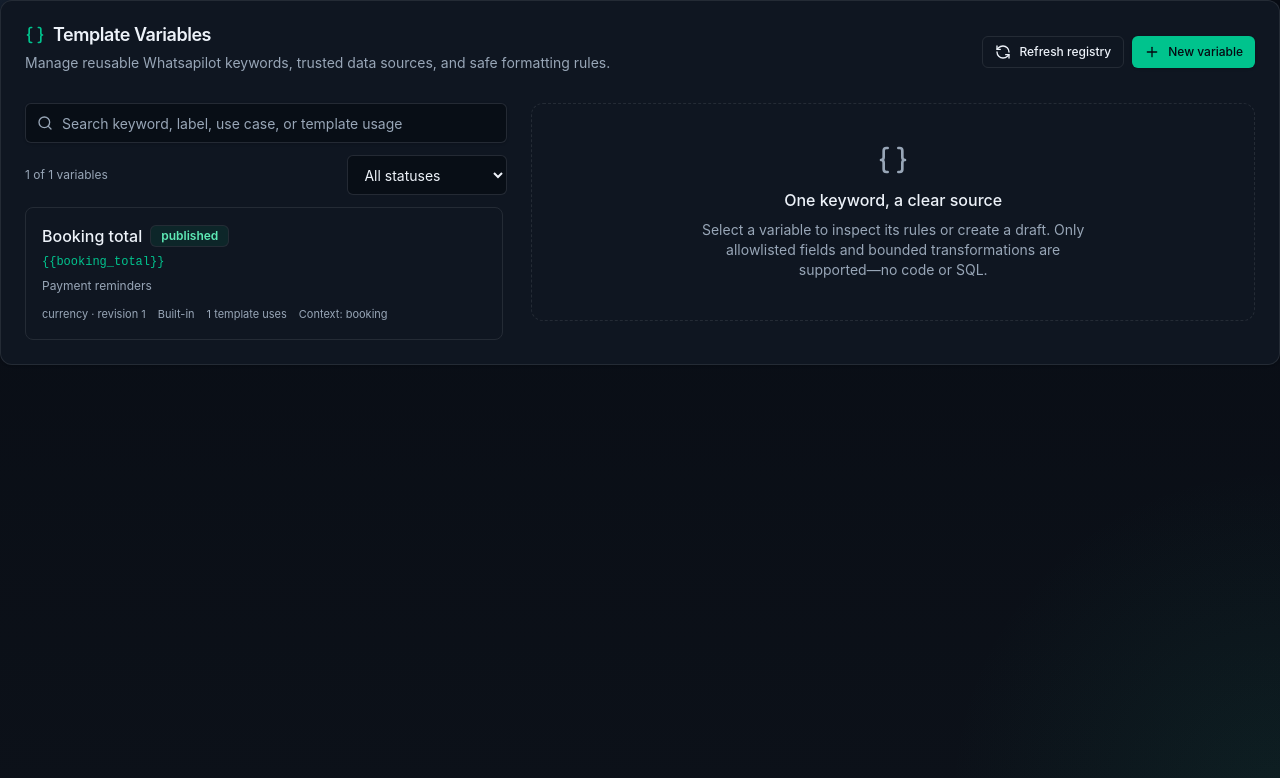
it: WhatsPilotTemplateVariablesPanel › loads the catalog, shows context and usage, and searches template usage without polling
Click the button "Booking total published" at [92, 236], box [25,207,503,340]
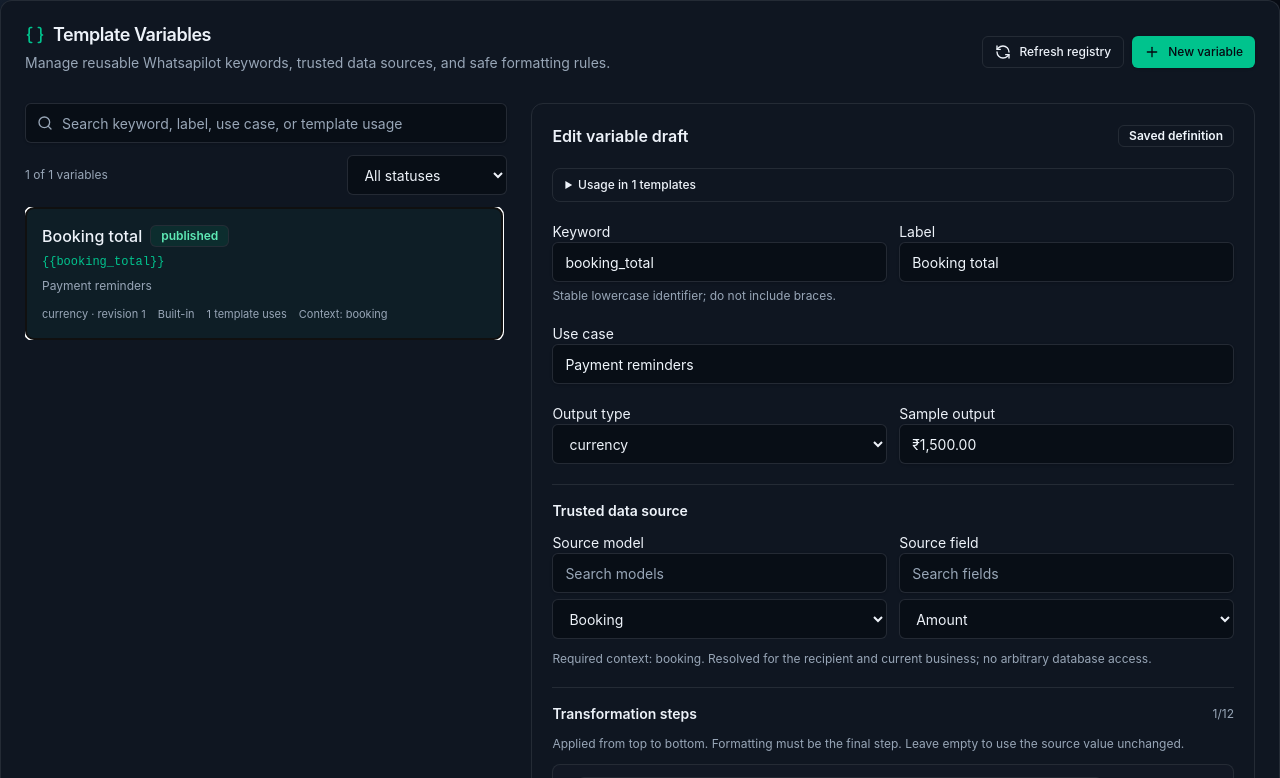
Expected: the text "Context: booking" is shown, [299,306,388,322]
Click the heading "Usage in 1 templates" at [637, 184], box [578,177,696,192]
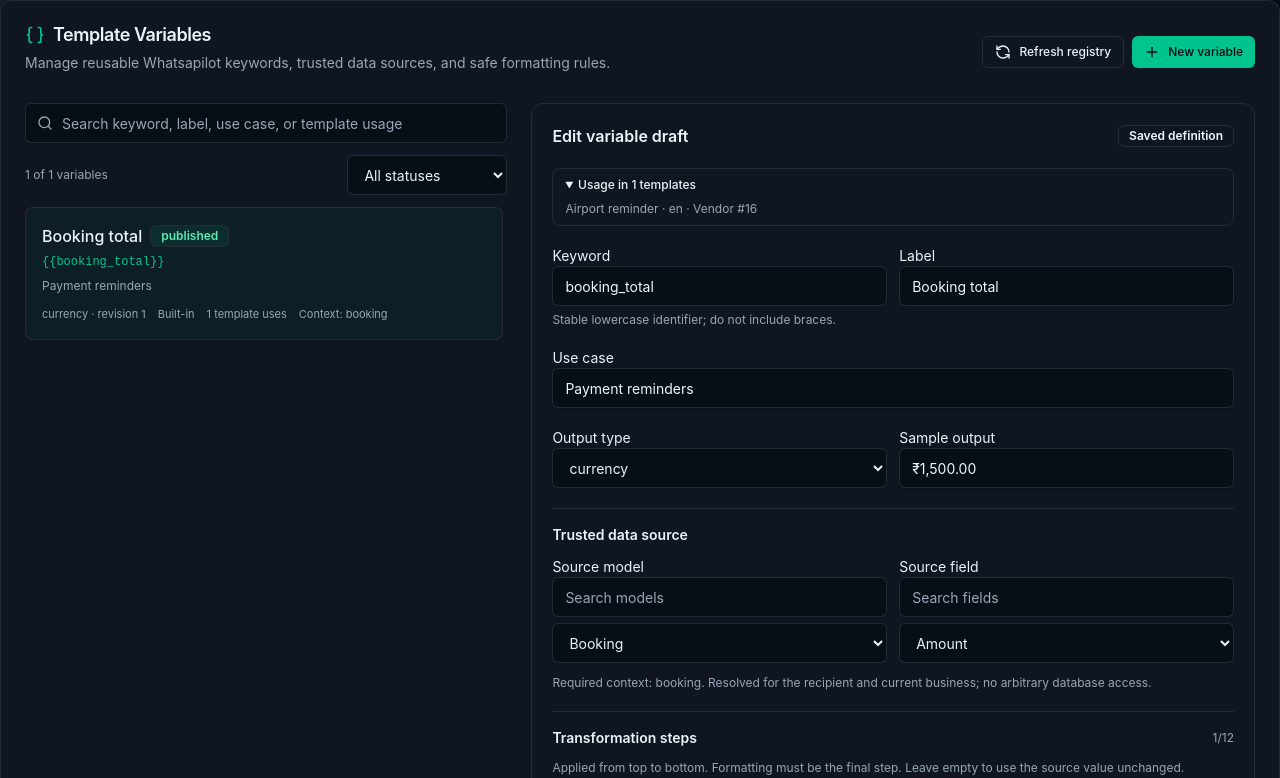
Result: the list item "Airport reminder · en · Vendor #16" is shown at [565,201,757,216]
Type "Airport reminder" into the field named "Search template variables" at [266, 123], box [25,103,507,143]
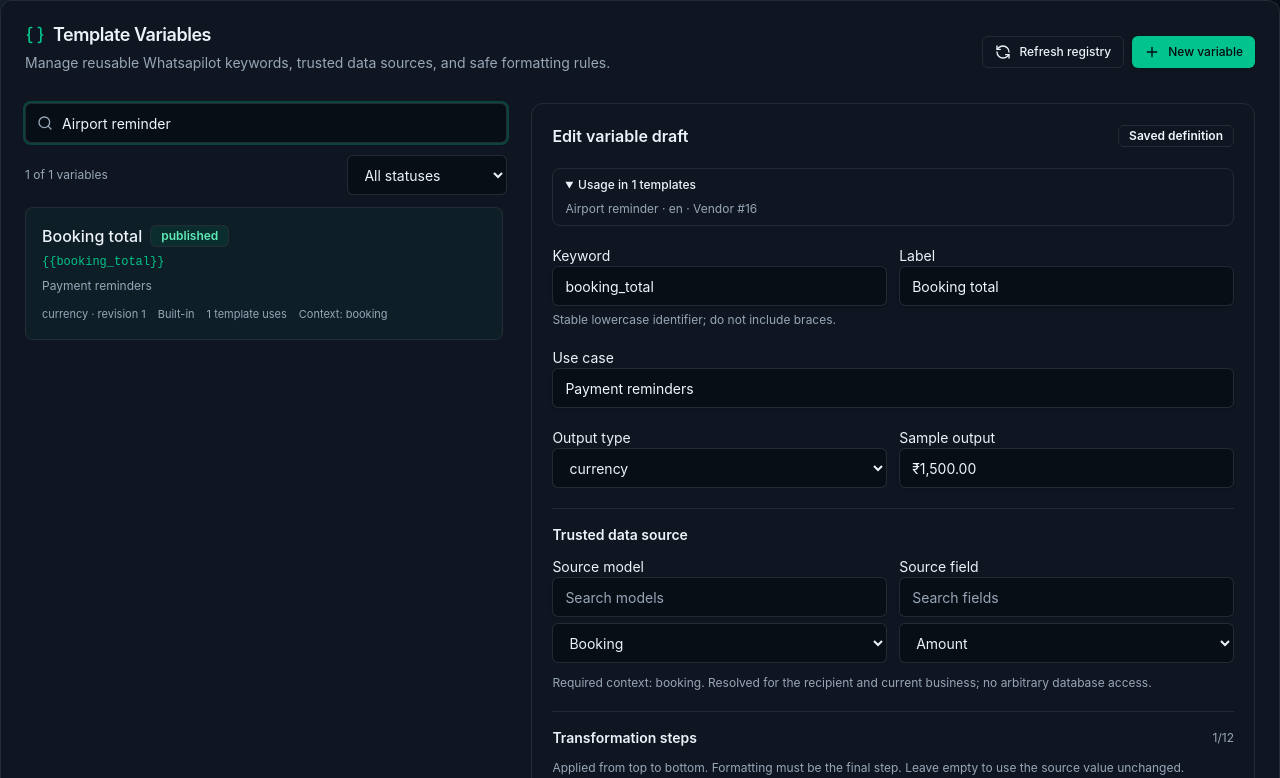
Expected: the button "Booking total published" is shown, [25,207,503,340]
Select "Disabled" in the dropdown named "Variable status" at [427, 175], box [347,155,507,195]
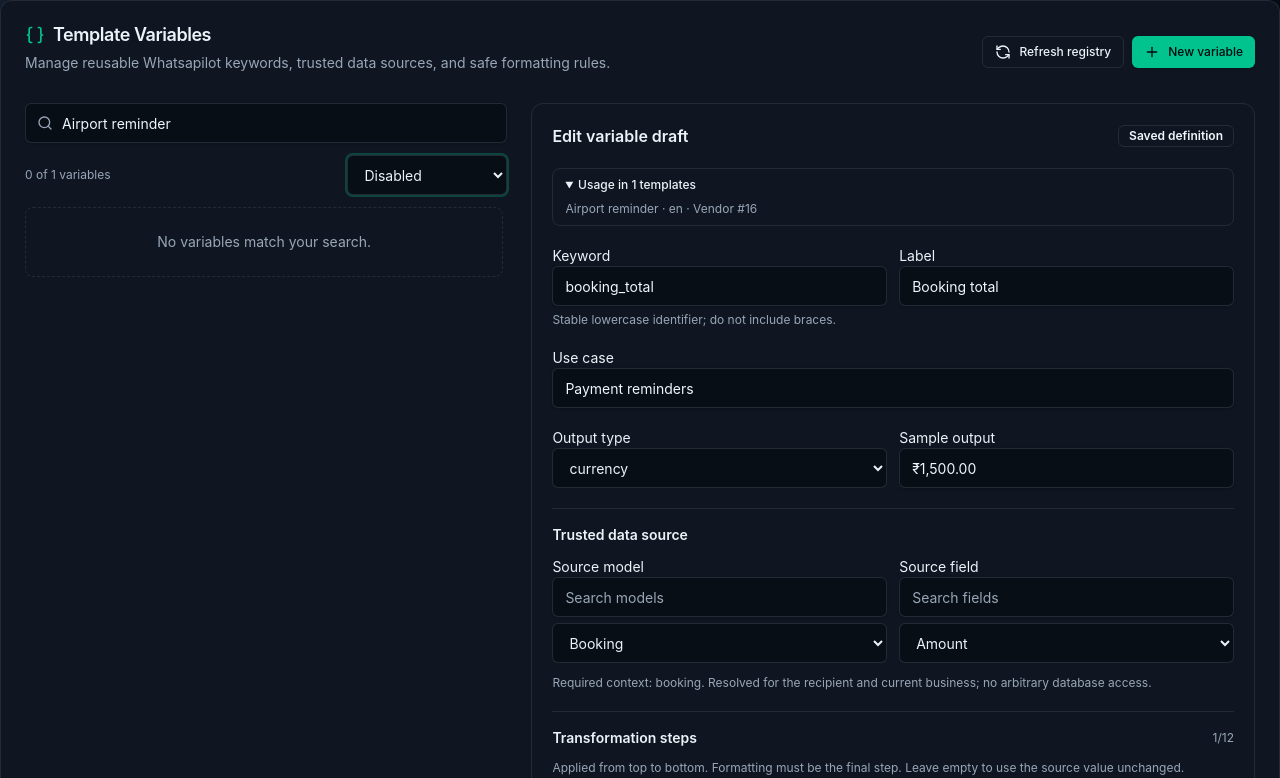
Result: the text "No variables match your search." is shown at [25,207,503,277]
